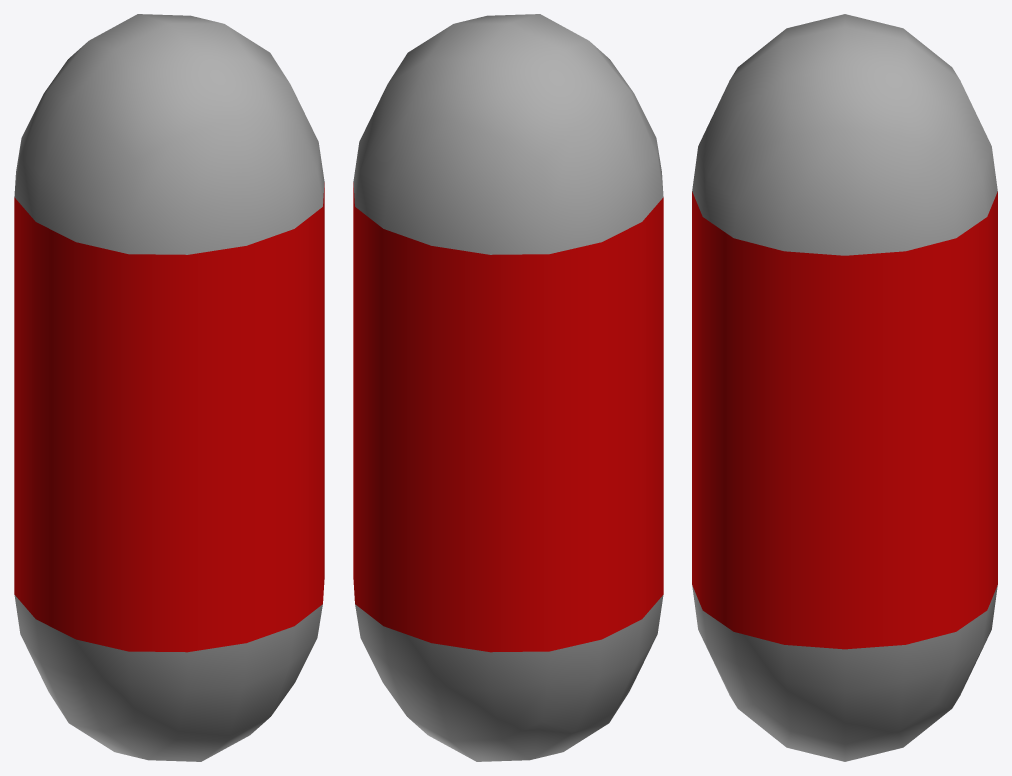
File: Capsu.fbx
The picture shows the model from 3 angles, left to right: view 1: azimuth 30°, elevation 25°; view 2: azimuth 150°, elevation 25°; view 3: azimuth 270°, elevation 25°; orthographic projection.
Visible parts, largest first — view 1: pCube9, pCube10; view 2: pCube9, pCube10; view 3: pCube9, pCube10.
Part boxes in pixels (left/top/right/bottom): pCube9: left=14, top=182, right=324, bottom=652; pCube10: left=14, top=14, right=324, bottom=761; pCube9: left=353, top=182, right=663, bottom=652; pCube10: left=353, top=14, right=663, bottom=761; pCube9: left=692, top=191, right=997, bottom=649; pCube10: left=692, top=14, right=997, bottom=761.
Bounding box in the file's own units: 8.99 × 23.4 × 8.99.
